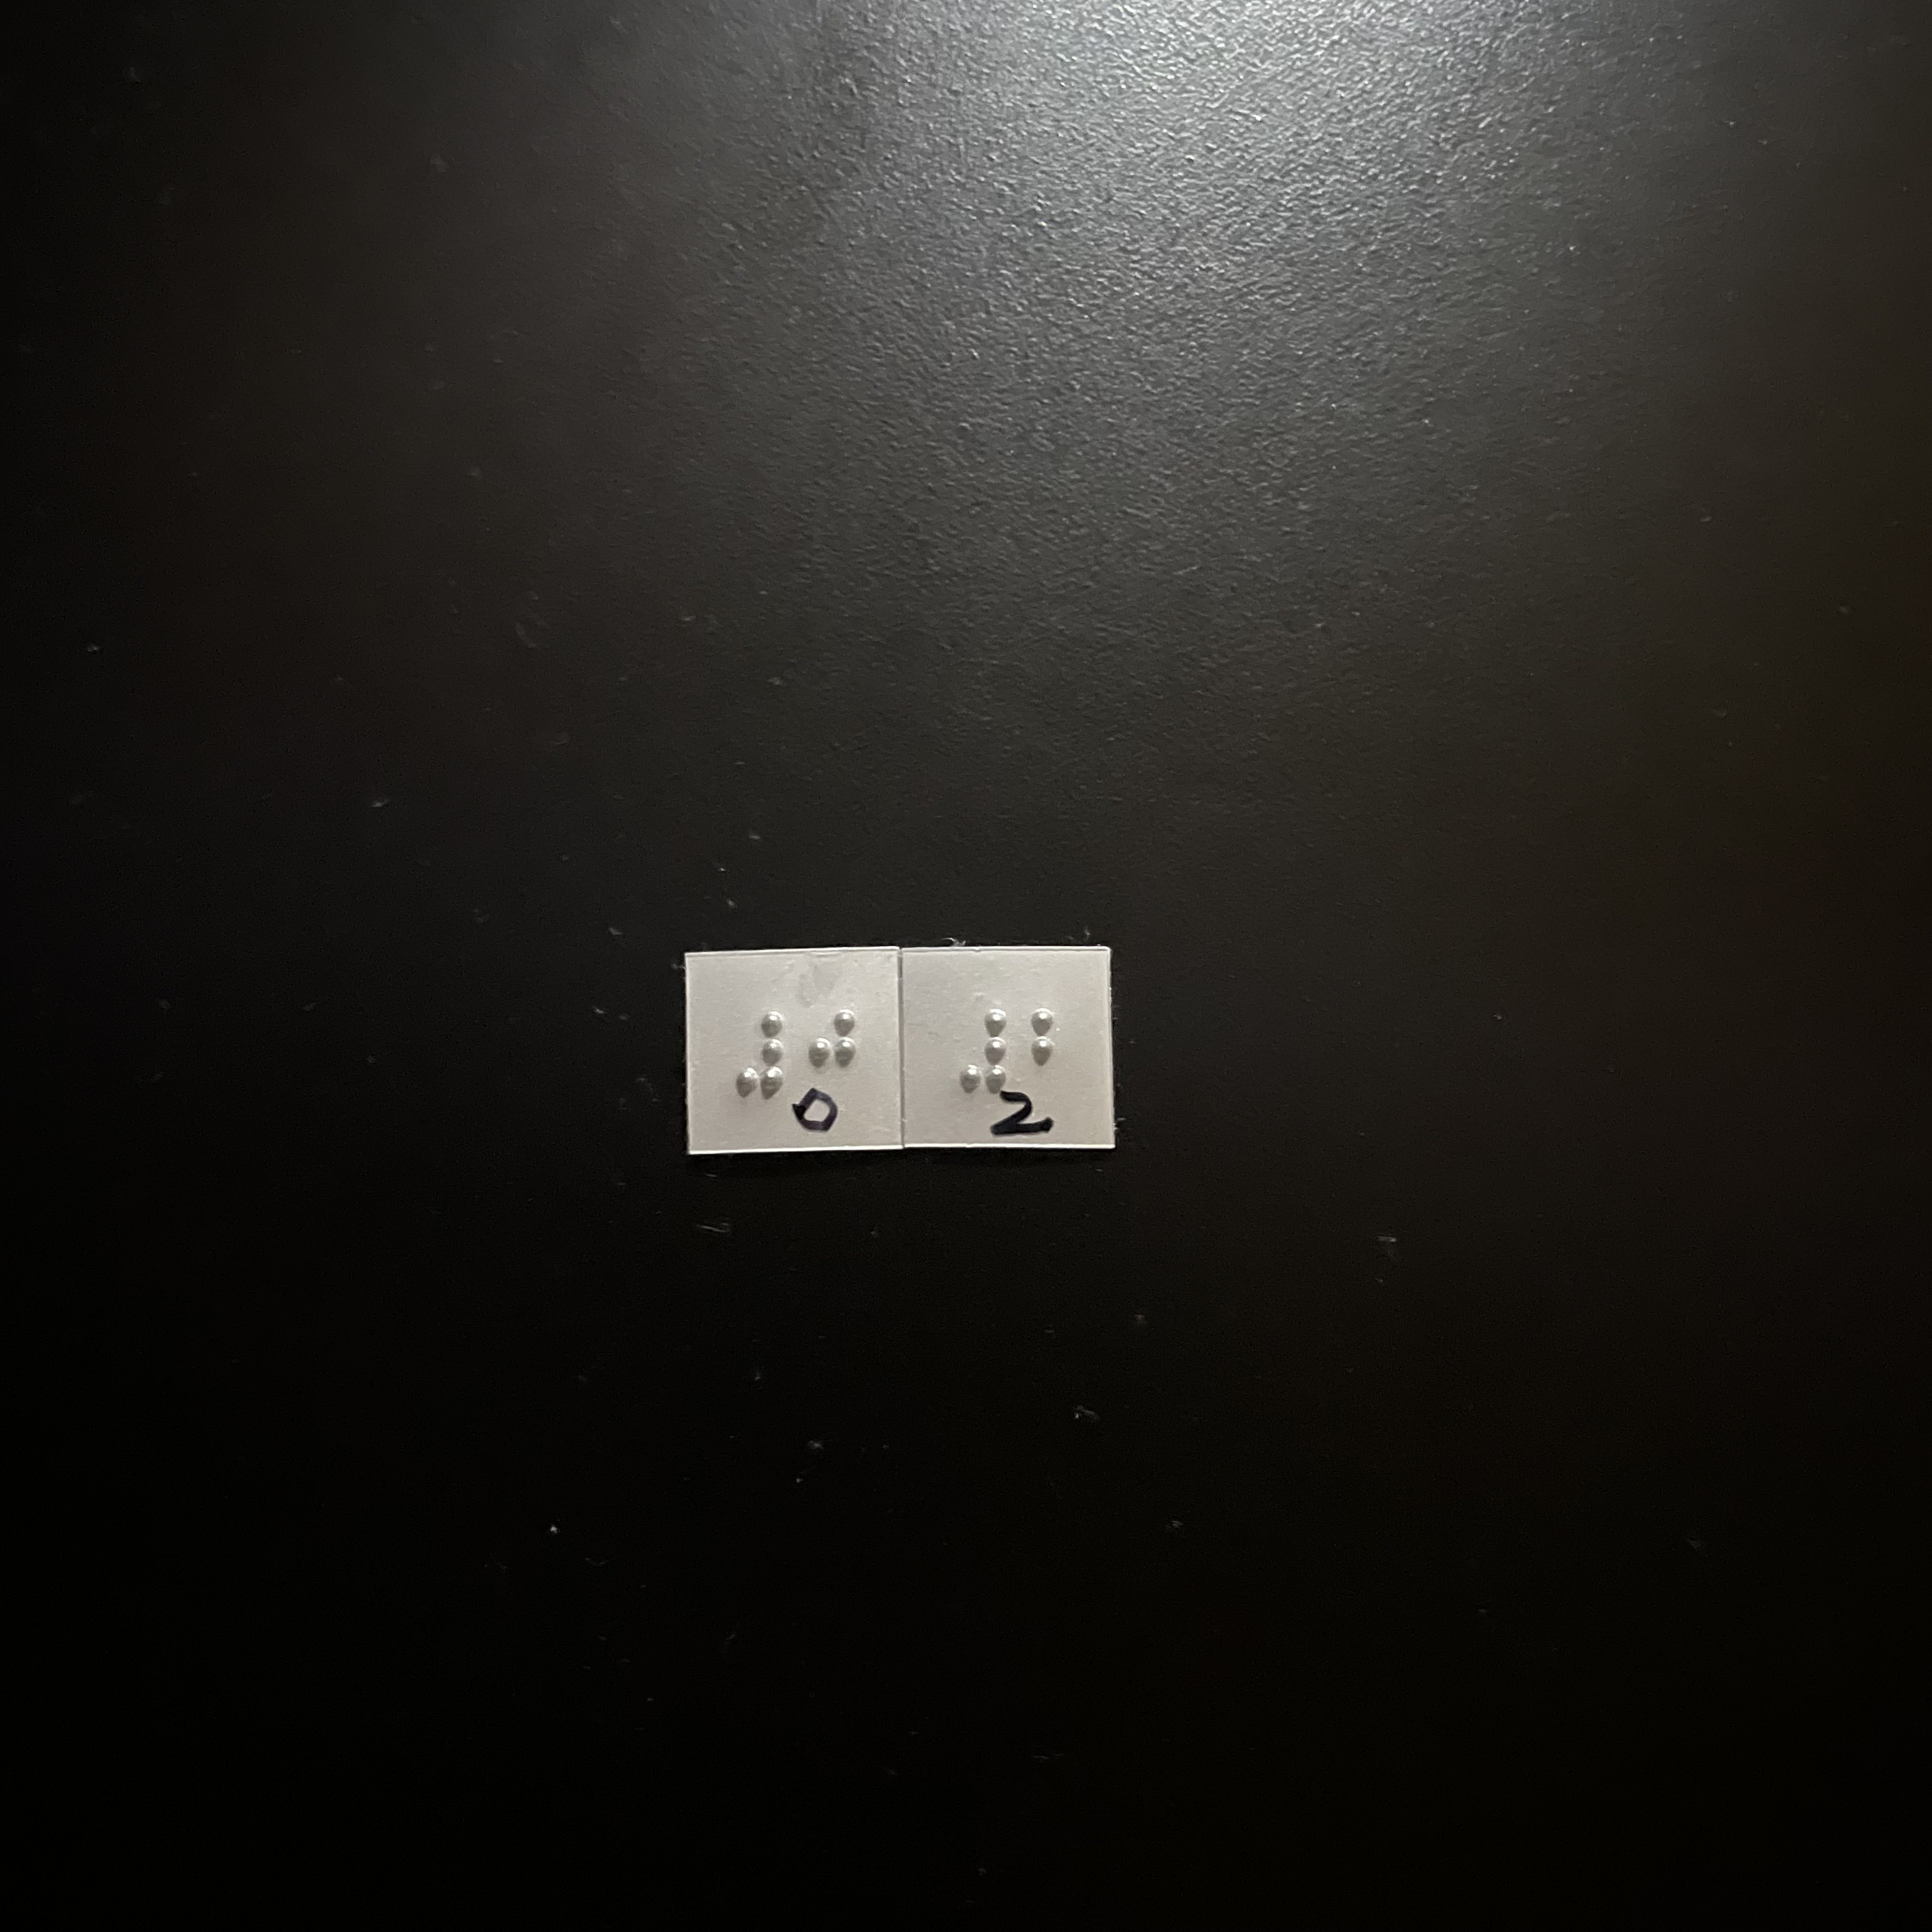#: (728, 1000, 800, 1106), (947, 1002, 1020, 1103)
b: (1029, 1002, 1084, 1108)
j: (798, 995, 871, 1108)
